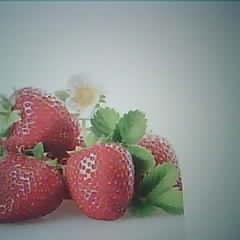straw-ripe: (66, 144, 134, 221), (7, 89, 80, 154), (0, 155, 62, 220)
